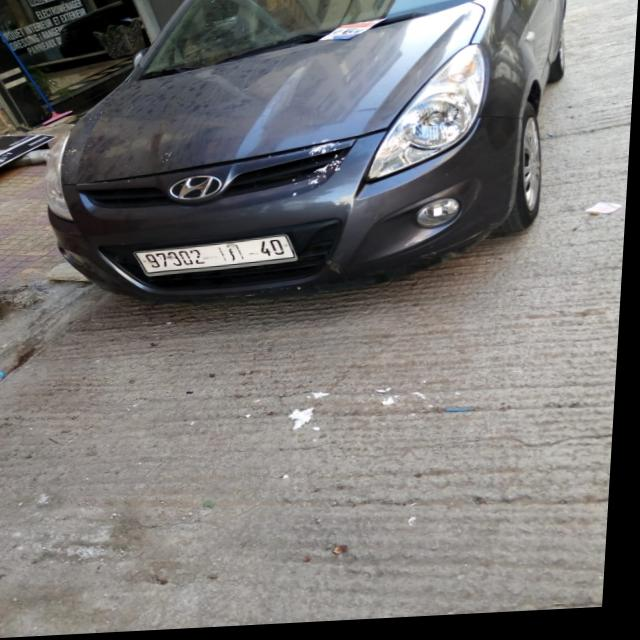License-Plate: (138, 238, 301, 278)
